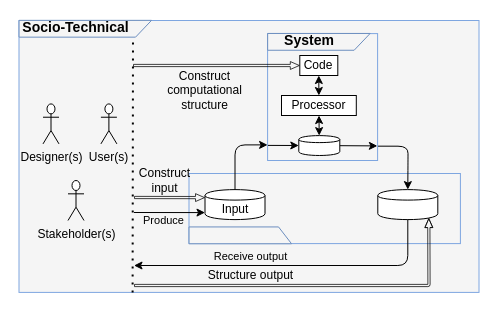
The diagram is 496 pixels wide and 311 high, and some of its shapes have lost their labels. The centre of each missing label's shape, as x and y in pixels:
"Data" goes at (x=319, y=145).
"Interface" goes at (x=240, y=235).
"Output" goes at (x=407, y=204).
